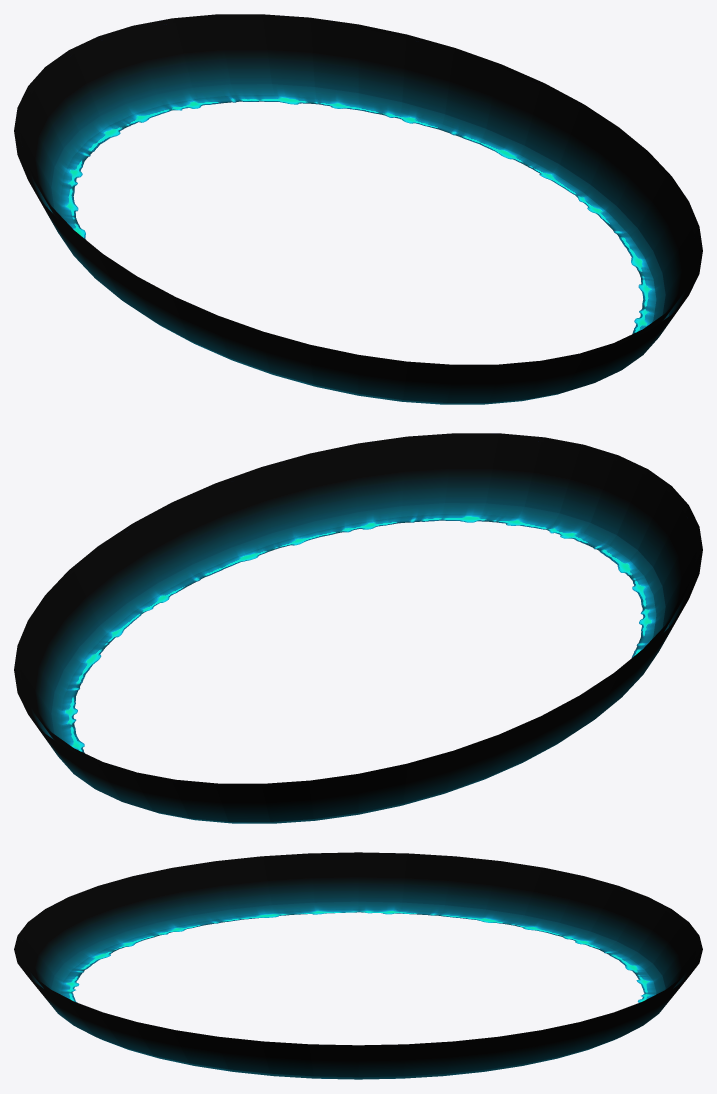
File: p_charge_slow_wind.fbx
3 renders of one model, top to bottom at view 1: azimuth 30°, elevation 25°; view 2: azimuth 150°, elevation 25°; view 3: azimuth 270°, elevation 25°, orthographic. The views are drawn at different scales.
Visible parts, largest first — view 1: ring_inner, ring_outer; view 2: ring_inner, ring_outer; view 3: ring_inner, ring_outer.
Boxes of the visible parts, box(x1,y1,x2,y2) form: ring_inner: box(20, 18, 696, 367); ring_outer: box(14, 14, 702, 404); ring_inner: box(20, 437, 696, 786); ring_outer: box(14, 433, 702, 823); ring_inner: box(20, 855, 696, 1046); ring_outer: box(14, 852, 702, 1079).
Bounding box in the file's own units: 2.23 × 0.2385 × 3.34.
Materials: 1 (1 with a texture image).
